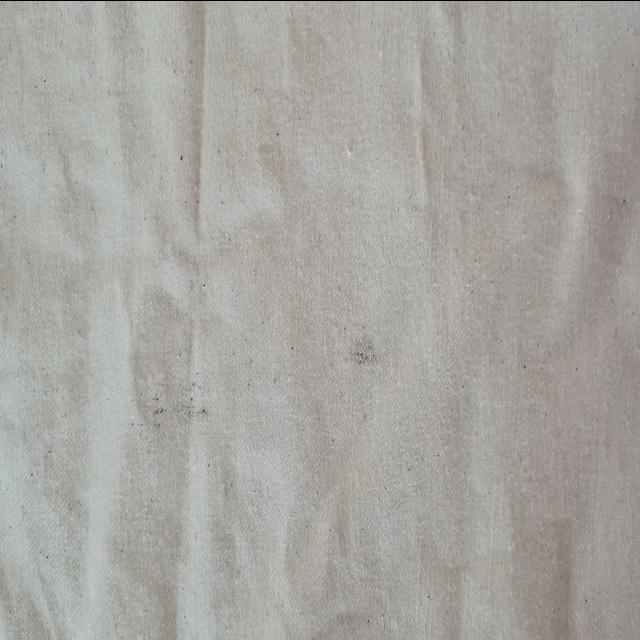taaaches: (343, 303, 391, 395)
